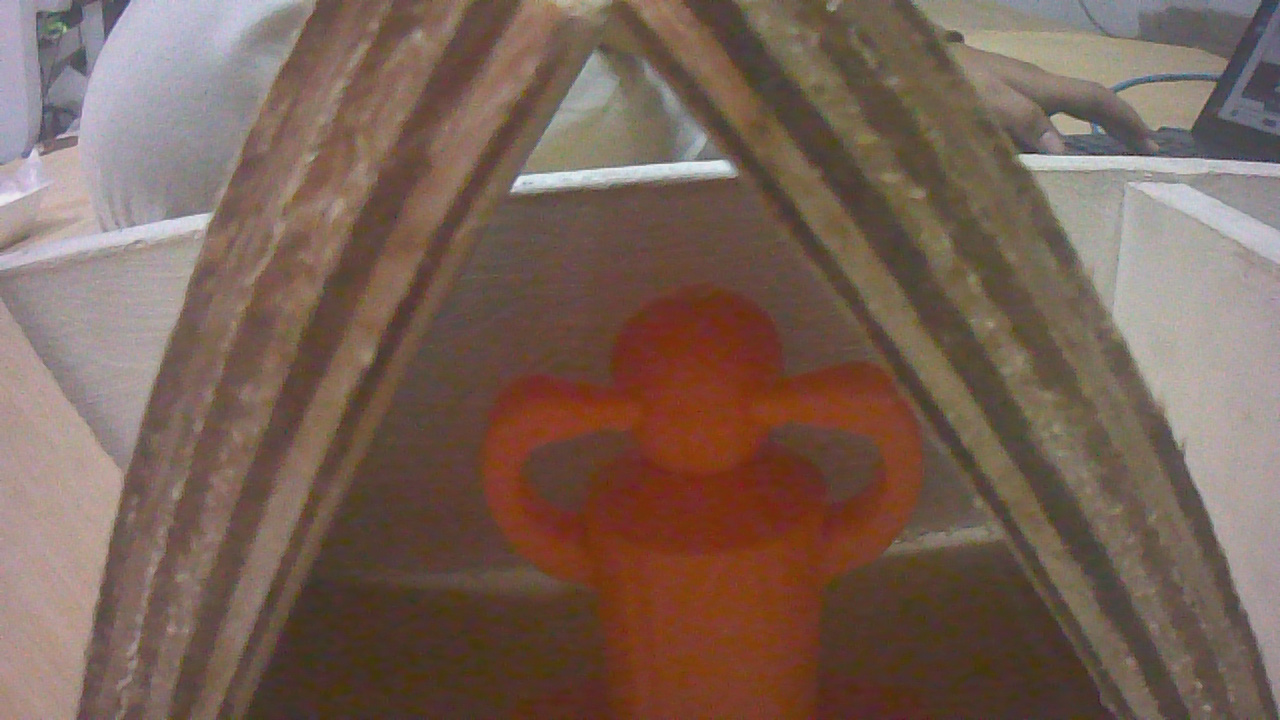real: (471, 301, 934, 720)
